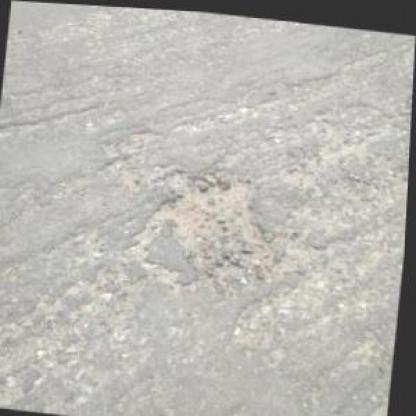pothole: (143, 157, 284, 288)
